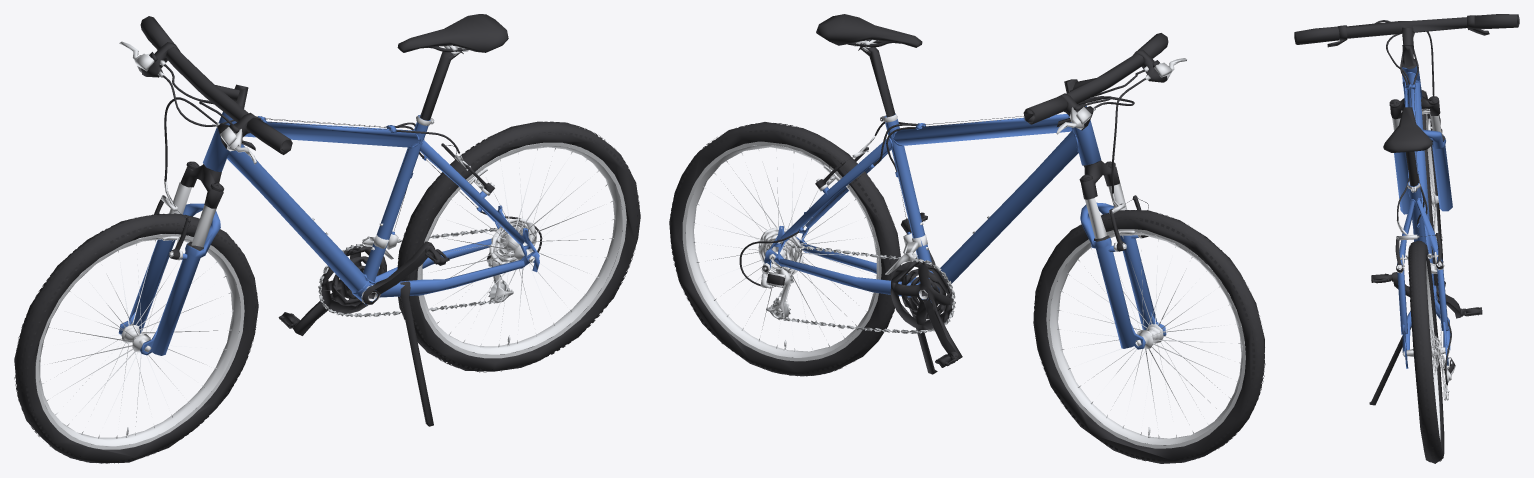
The model's file is archmodels55-01.glb.
3 renders of one model, left to right at view 1: azimuth 30°, elevation 25°; view 2: azimuth 150°, elevation 25°; view 3: azimuth 270°, elevation 25°, orthographic. The views are drawn at different scales.
Parts seen in each view (by area): view 1: Archmodels55_01_carpaint, Archmodels55_01_black01, Archmodels55_01_black, Archmodels55_01_chrome, Archmodels55_01_black2, Archmodels55_01_chrome2, Archmodels55_01_black3, Archmodels55_01_black4, Archmodels55_01_chain; view 2: Archmodels55_01_carpaint, Archmodels55_01_black01, Archmodels55_01_black, Archmodels55_01_chrome, Archmodels55_01_chrome2, Archmodels55_01_black2, Archmodels55_01_black3, Archmodels55_01_chain, Archmodels55_01_black4; view 3: Archmodels55_01_black01, Archmodels55_01_carpaint, Archmodels55_01_black2, Archmodels55_01_black, Archmodels55_01_chrome2, Archmodels55_01_chrome, Archmodels55_01_black4, Archmodels55_01_black3.
Part boxes in pixels (<box>): Archmodels55_01_carpaint: <box>118,111,539,355</box>; Archmodels55_01_black01: <box>397,14,640,372</box>; Archmodels55_01_black: <box>14,16,292,463</box>; Archmodels55_01_chrome: <box>35,41,626,449</box>; Archmodels55_01_black2: <box>141,42,463,426</box>; Archmodels55_01_chrome2: <box>35,115,622,446</box>; Archmodels55_01_black3: <box>154,46,494,327</box>; Archmodels55_01_black4: <box>162,64,542,252</box>; Archmodels55_01_chain: <box>318,227,509,317</box>; Archmodels55_01_carpaint: <box>764,106,1166,349</box>; Archmodels55_01_black01: <box>669,14,922,376</box>; Archmodels55_01_black: <box>1023,33,1265,463</box>; Archmodels55_01_chrome: <box>682,39,1245,448</box>; Archmodels55_01_chrome2: <box>686,114,1245,444</box>; Archmodels55_01_black2: <box>858,39,1167,374</box>; Archmodels55_01_black3: <box>762,40,1148,357</box>; Archmodels55_01_chain: <box>765,242,955,333</box>; Archmodels55_01_black4: <box>739,69,1145,286</box>; Archmodels55_01_black01: <box>1383,107,1444,463</box>; Archmodels55_01_carpaint: <box>1394,66,1452,368</box>; Archmodels55_01_black2: <box>1294,15,1519,405</box>; Archmodels55_01_black: <box>1294,14,1518,288</box>; Archmodels55_01_chrome2: <box>1396,114,1455,439</box>; Archmodels55_01_chrome: <box>1338,39,1452,441</box>; Archmodels55_01_black4: <box>1374,20,1451,385</box>; Archmodels55_01_black3: <box>1391,87,1462,373</box>.
Bounding box in the file's own units: 1.82 × 1.09 × 0.7074.
